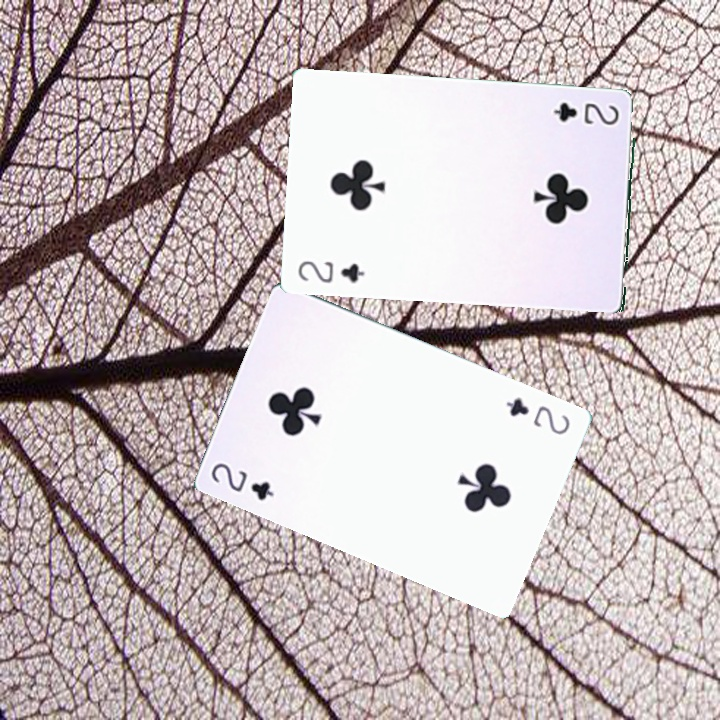2c: (502, 392, 573, 438), (207, 458, 277, 503), (293, 256, 367, 286), (549, 99, 622, 128)
